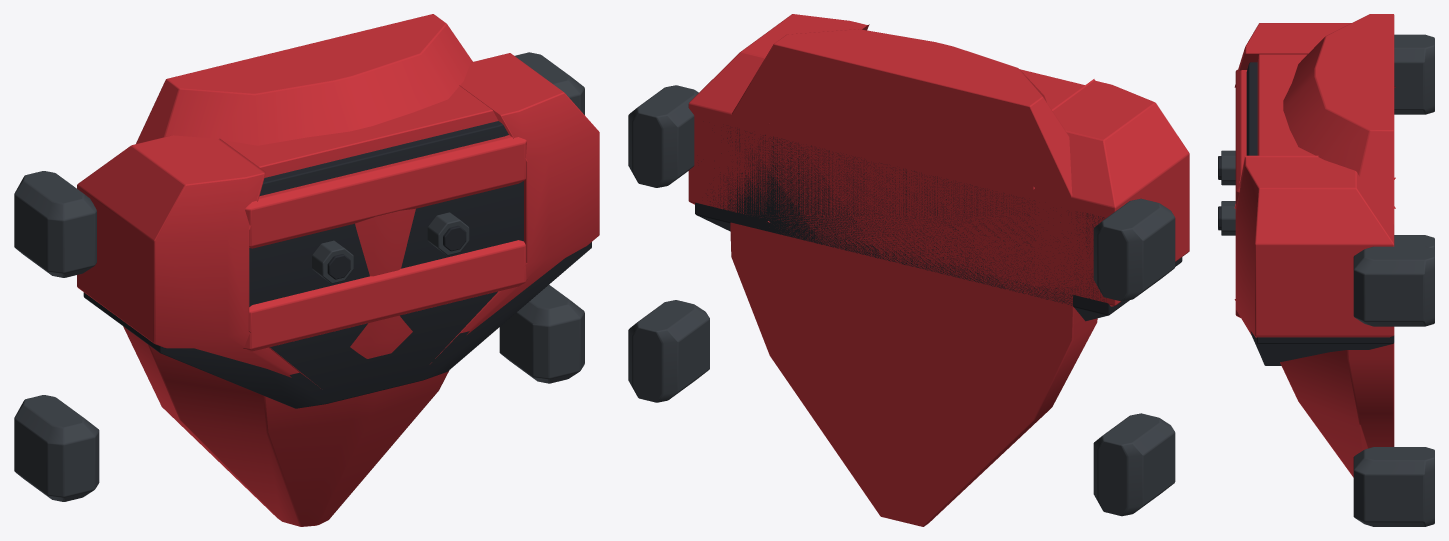
File: UpperArmBack_Set04_Ripjaw.fbx
The picture shows the model from 3 angles, left to right: view 1: azimuth 30°, elevation 25°; view 2: azimuth 150°, elevation 25°; view 3: azimuth 270°, elevation 25°; orthographic projection. The views are drawn at different scales.
Visible parts, largest first — view 1: UpperArmBack_Set04_Ripjaw; view 2: UpperArmBack_Set04_Ripjaw; view 3: UpperArmBack_Set04_Ripjaw.
Boxes of the visible parts, x1=… form: UpperArmBack_Set04_Ripjaw: x1=14, y1=14, x2=599, y2=526; UpperArmBack_Set04_Ripjaw: x1=628, y1=14, x2=1189, y2=526; UpperArmBack_Set04_Ripjaw: x1=1218, y1=14, x2=1434, y2=526.
Size of the model in its own units: 0.41 by 0.34 by 0.16.
